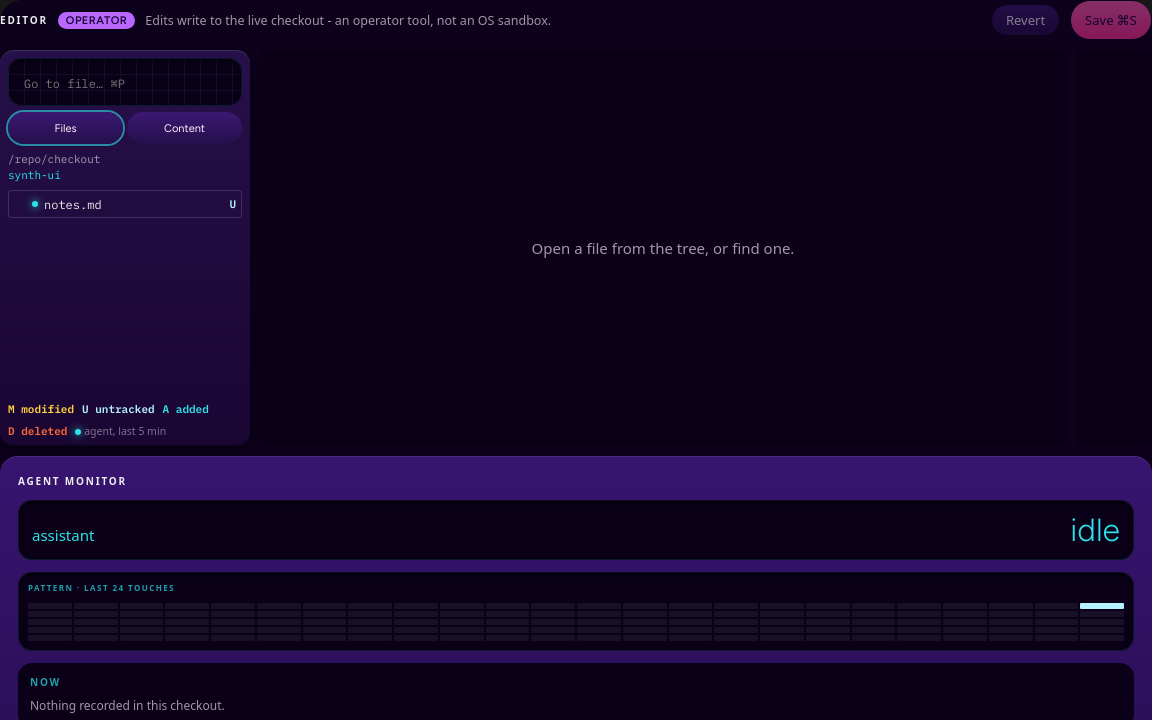
a stale preview cannot be confirmed at all
Click the text "notes.md" at {"x": 73, "y": 204}, box [44, 196, 102, 212]
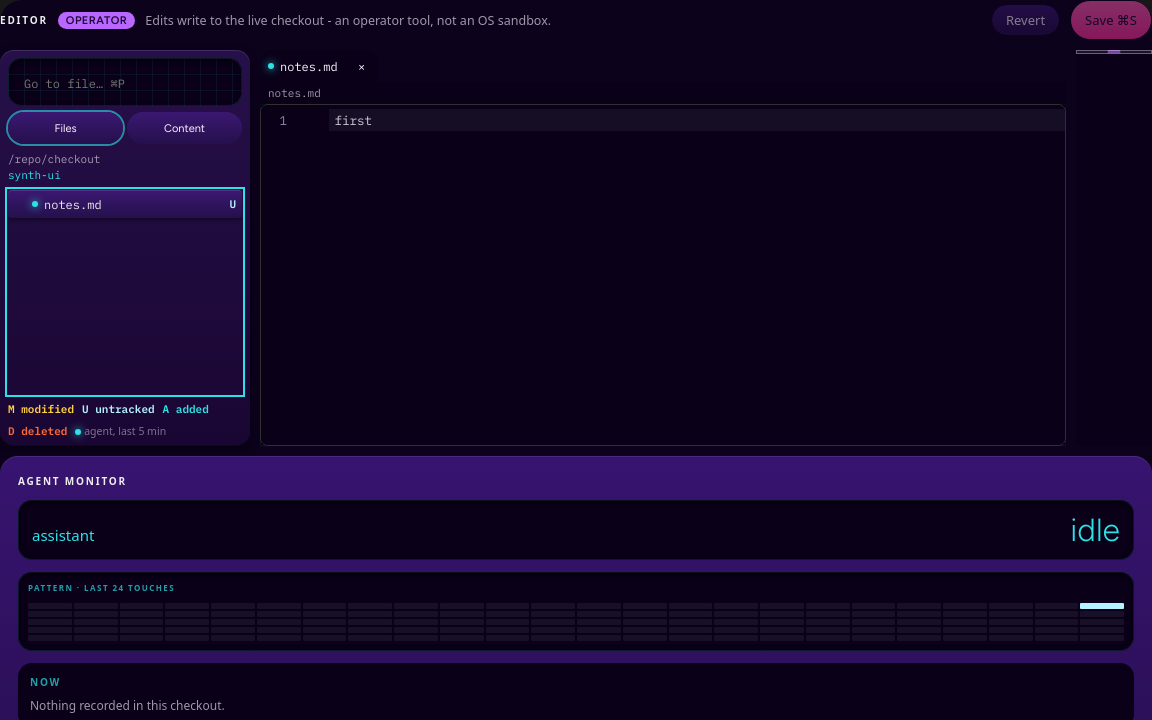
Expected: the field with class "cm-content" is shown
Click the field with class "cm-content" at {"x": 697, "y": 120}, box [328, 109, 1065, 131]
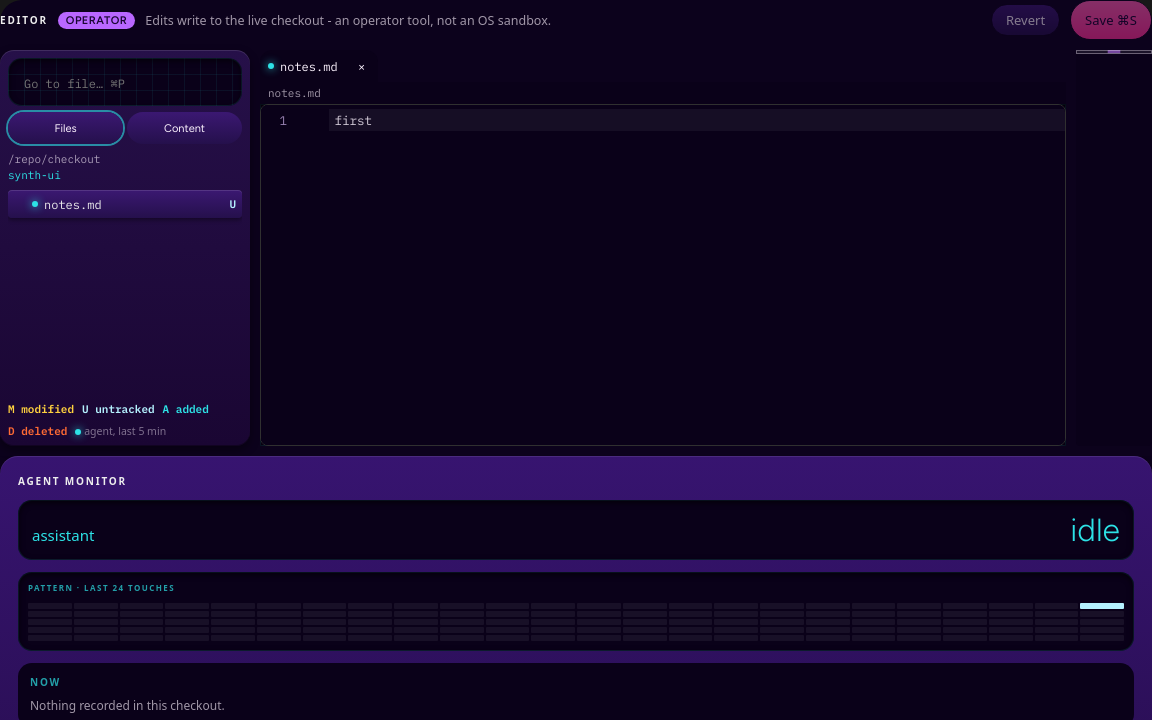
Press End
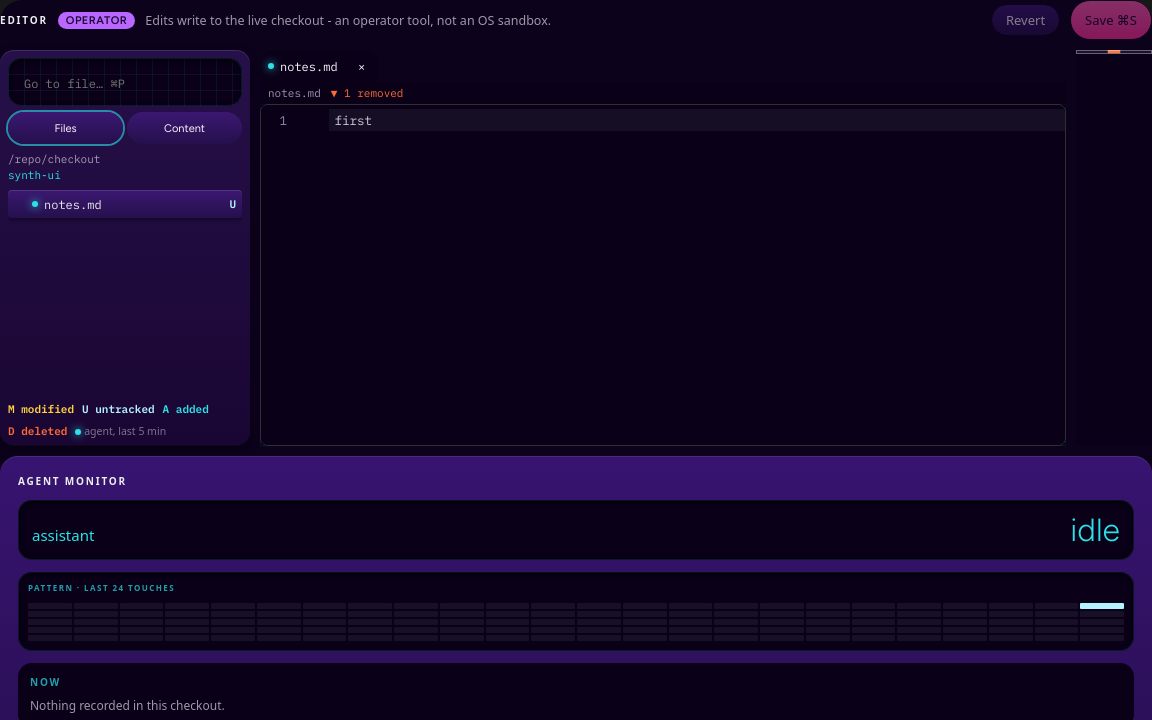
Type keys "!"
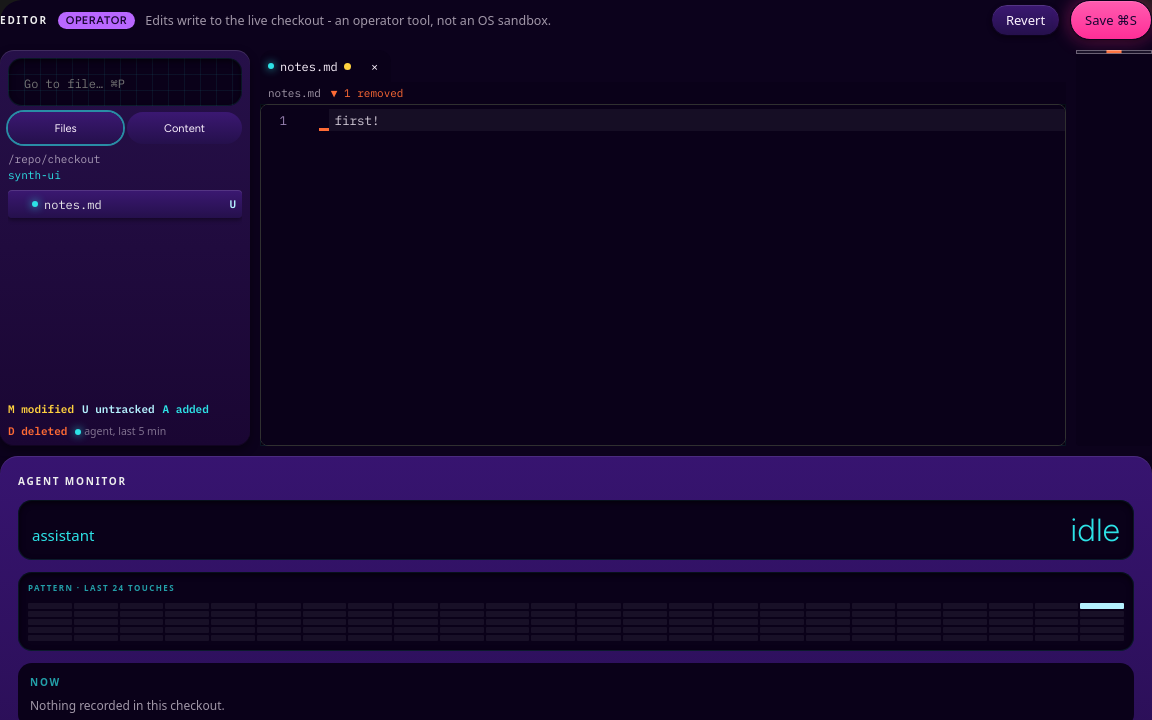
Click the button "Save ⌘S" at {"x": 1111, "y": 20}, box [1070, 0, 1151, 40]
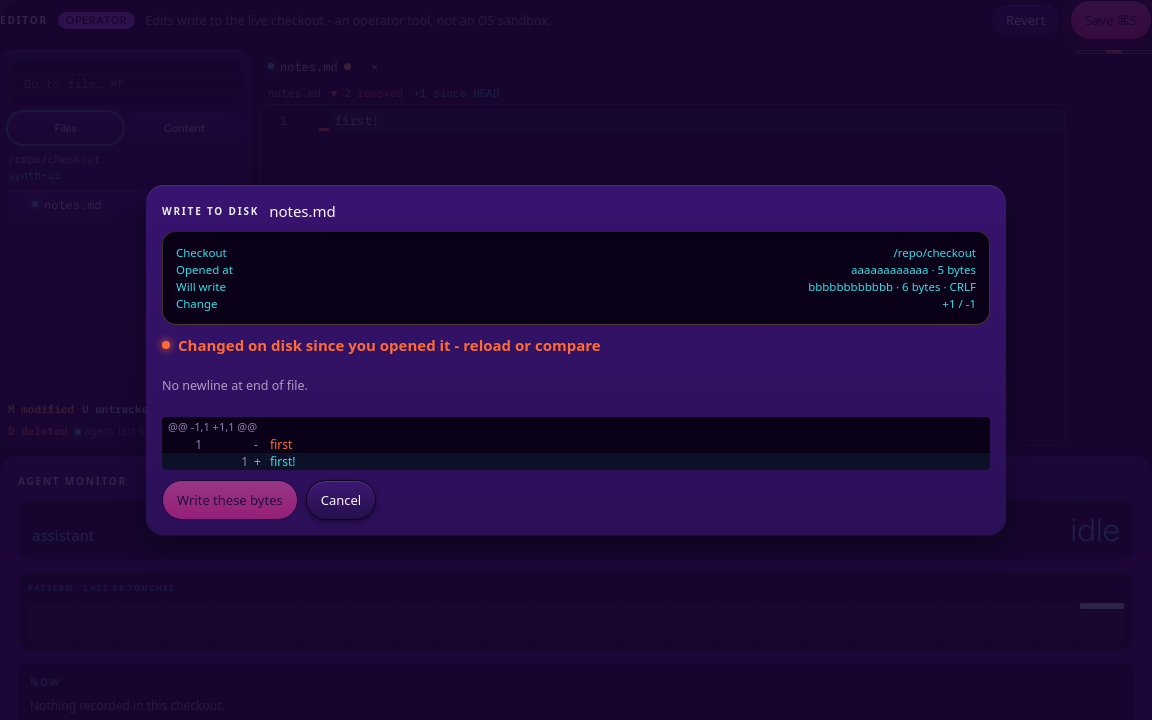
Expected: the text "Changed on disk since you opened it - reload or compare" is shown, [162, 334, 601, 354]
Expected: the button "Write these bytes" is disabled, [162, 480, 298, 520]
